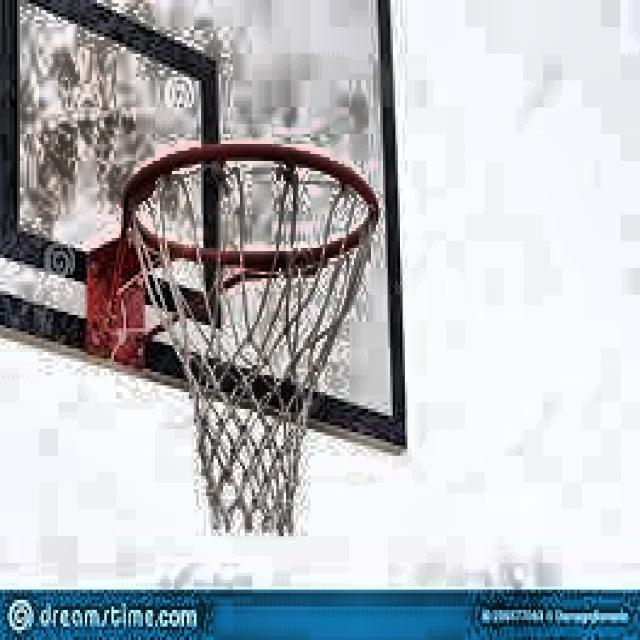rim: (121, 139, 378, 538)
